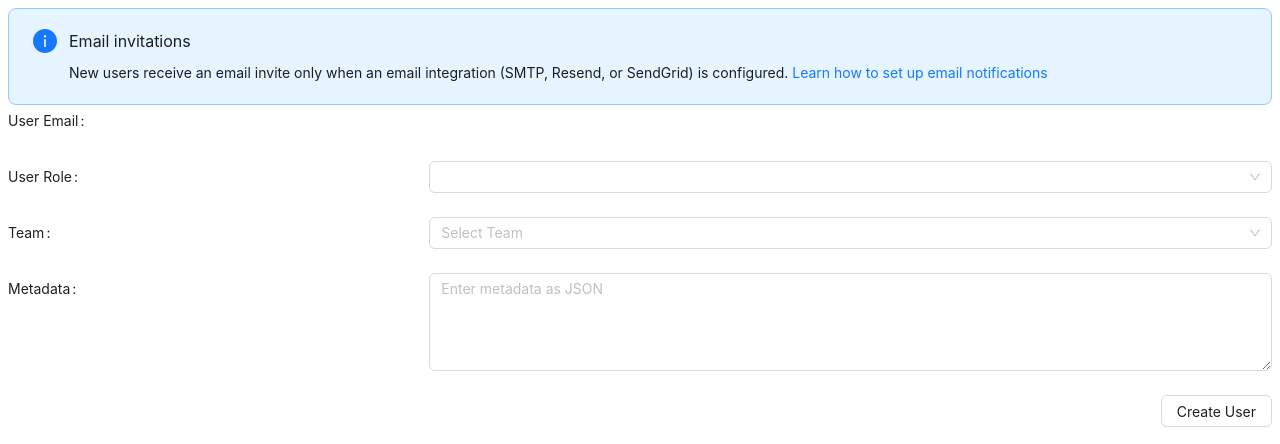
Test: CreateUserButton › should display user role options when possibleUIRoles is provided
This screenshot has width=1280, height=444.
Click the dropdown labelled "User Role": (47, 177) [8,161,86,193]
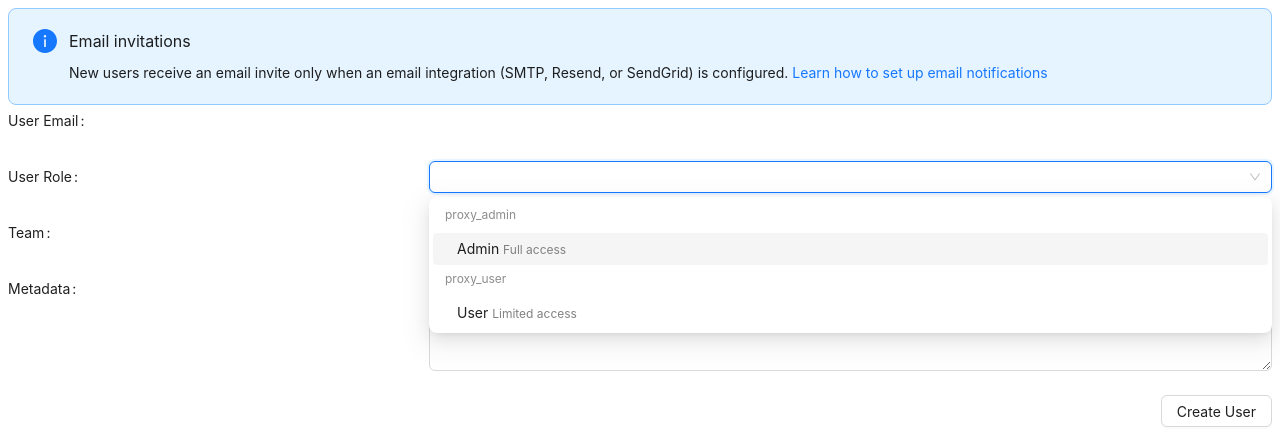
Expected: the text "Admin" is shown, [457,240,499,257]
Expected: the text "User" is shown, [457,304,488,321]
